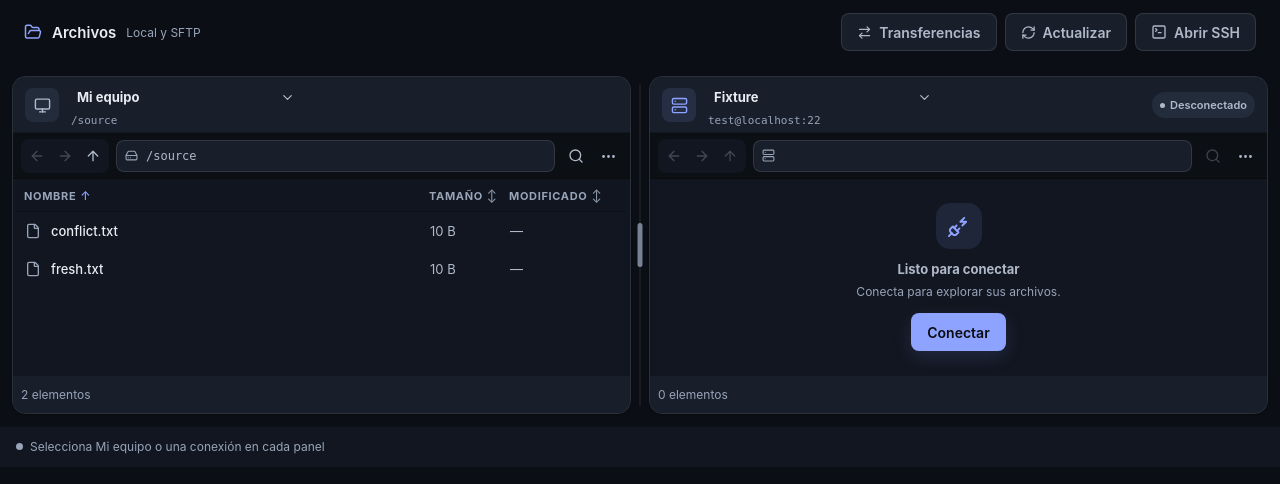
keeps file actions reachable through More while retaining the selected file
The width and height of the screenshot is (1280, 484).
Right-click the text "fresh.txt".
right_click(77, 269)  # box [51,261,103,277]
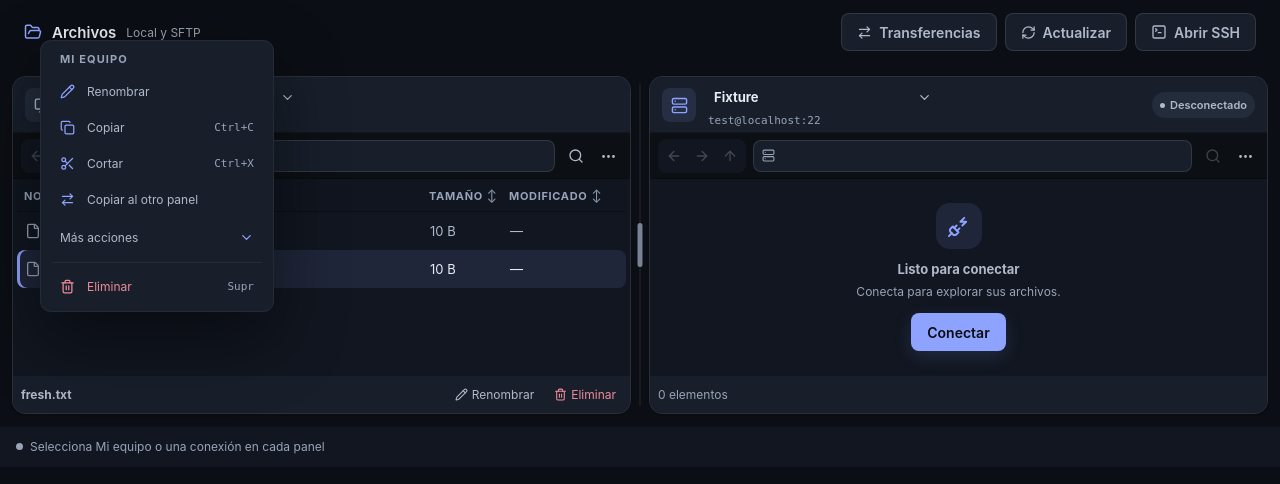
expect the menu item "Copiar ruta" is not shown: met
expect the menu item "Renombrar" is shown: met, box [48,73,266,109]
Click the menu item "Más acciones".
click(157, 237)  # box [48,217,266,257]
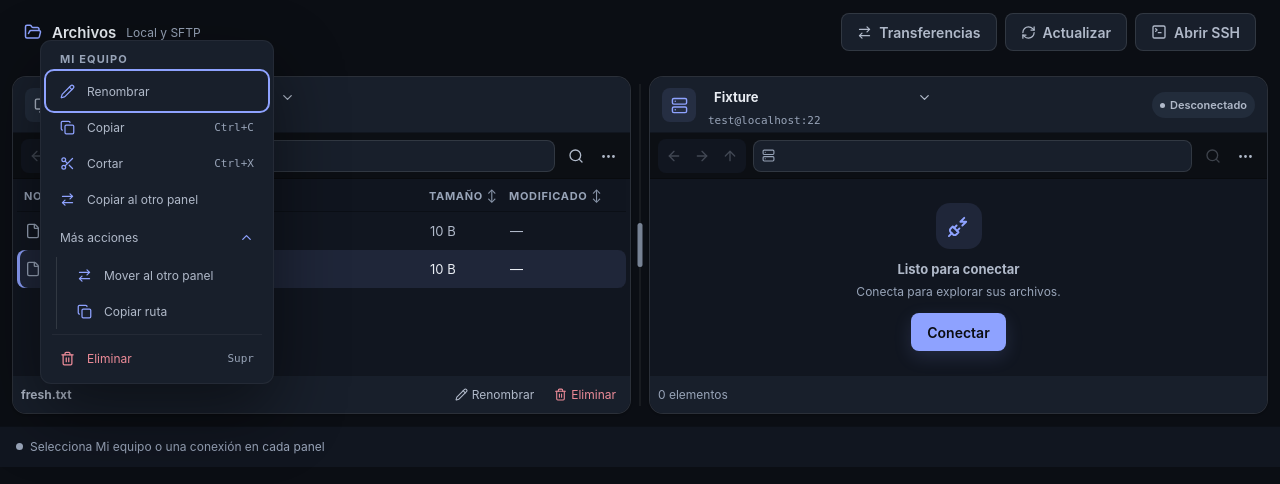
expect the menu item "Copiar ruta" is shown: met, box [65,293,266,329]
